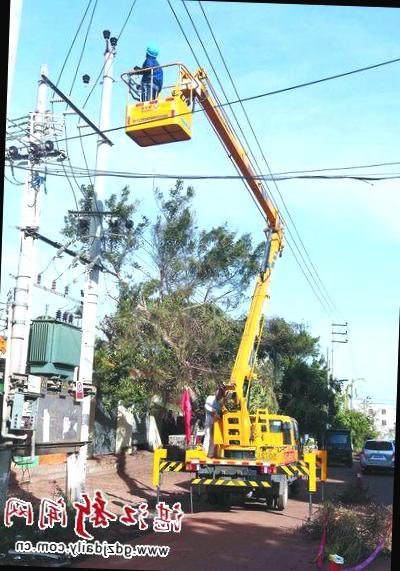person: (130, 42, 168, 109)
